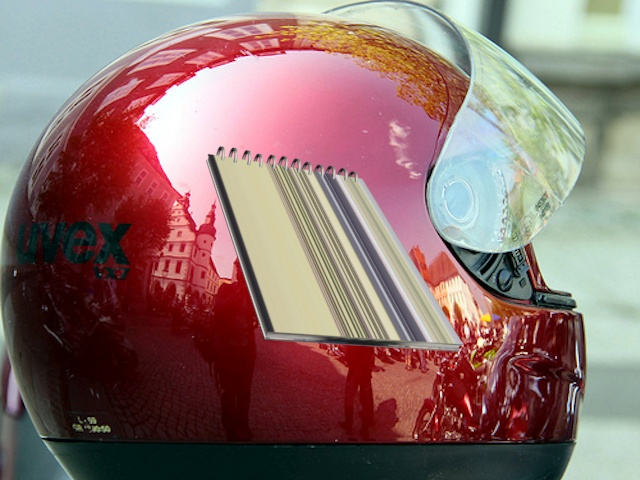paper_notebook: (201, 145, 464, 353)
